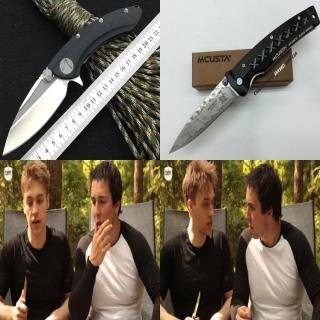knife: (0, 57, 69, 159), (166, 69, 240, 155), (15, 271, 31, 319), (188, 288, 202, 320)
